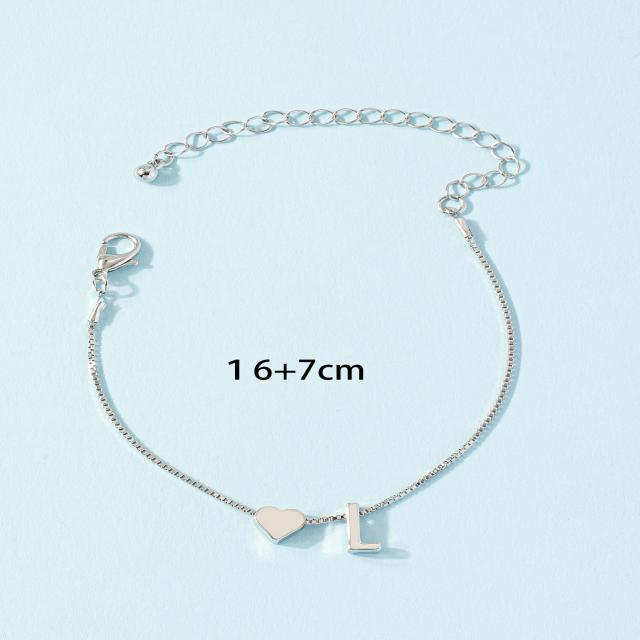bracelet: (22, 45, 546, 598)
